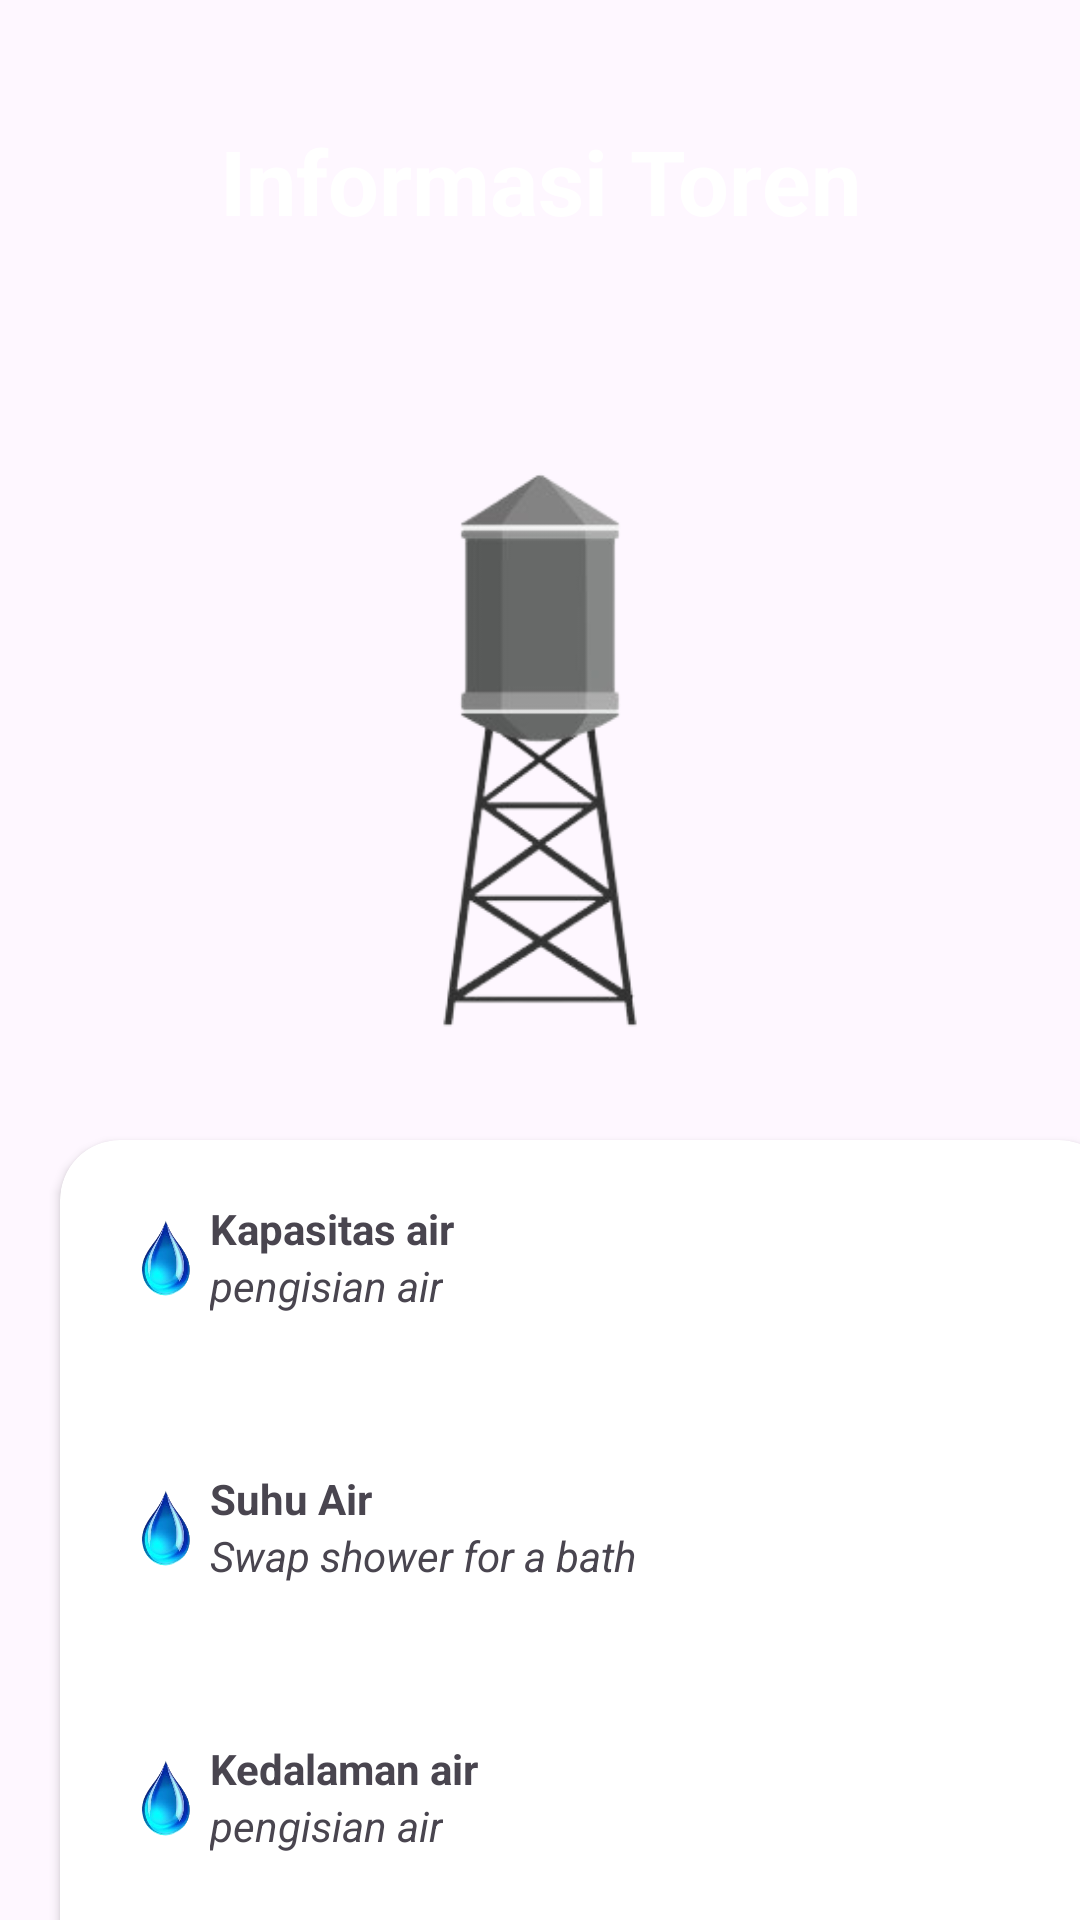

Screen size 1080 × 1920. Icon name, then its center in pixels as (x,y):
tetesanair: (166,1258), (166,1528), (166,1798)
